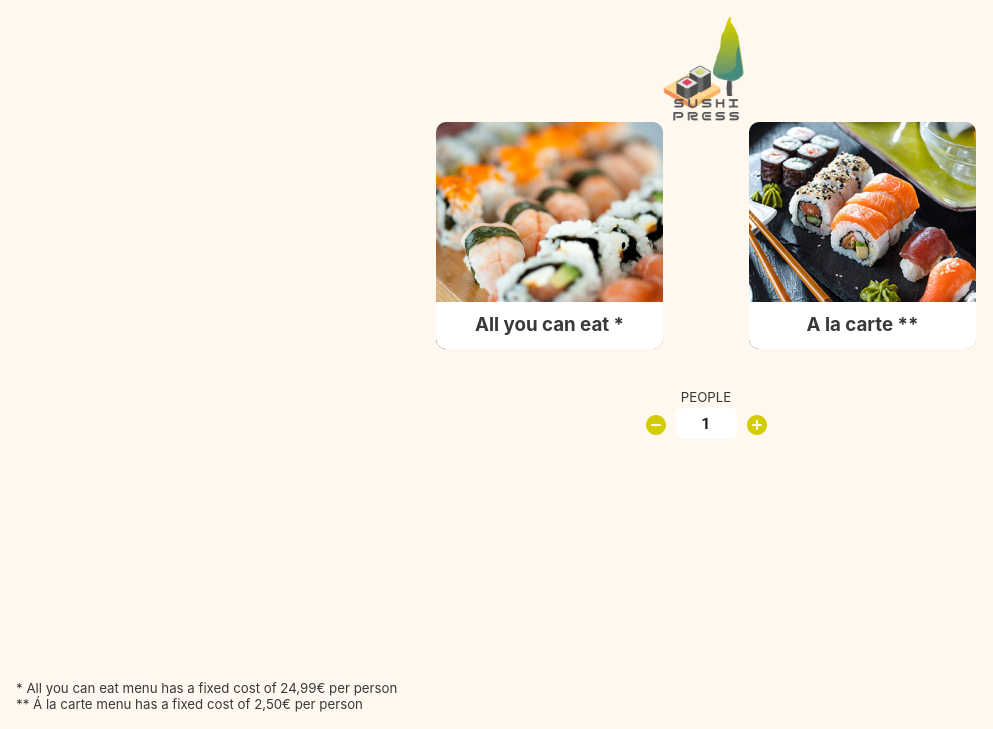
Scenario: can change people › add people
Click the button named "add" at [757, 425], box x1=737 y1=405 x2=777 y2=445
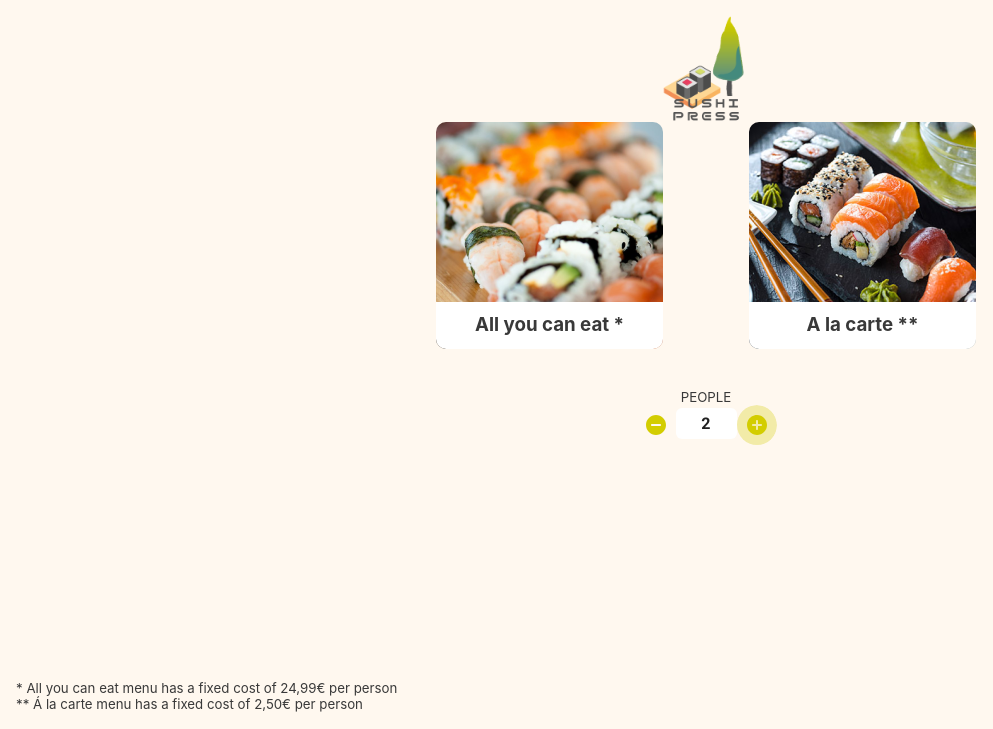
Click the button named "add" at [757, 425], box x1=737 y1=405 x2=777 y2=445
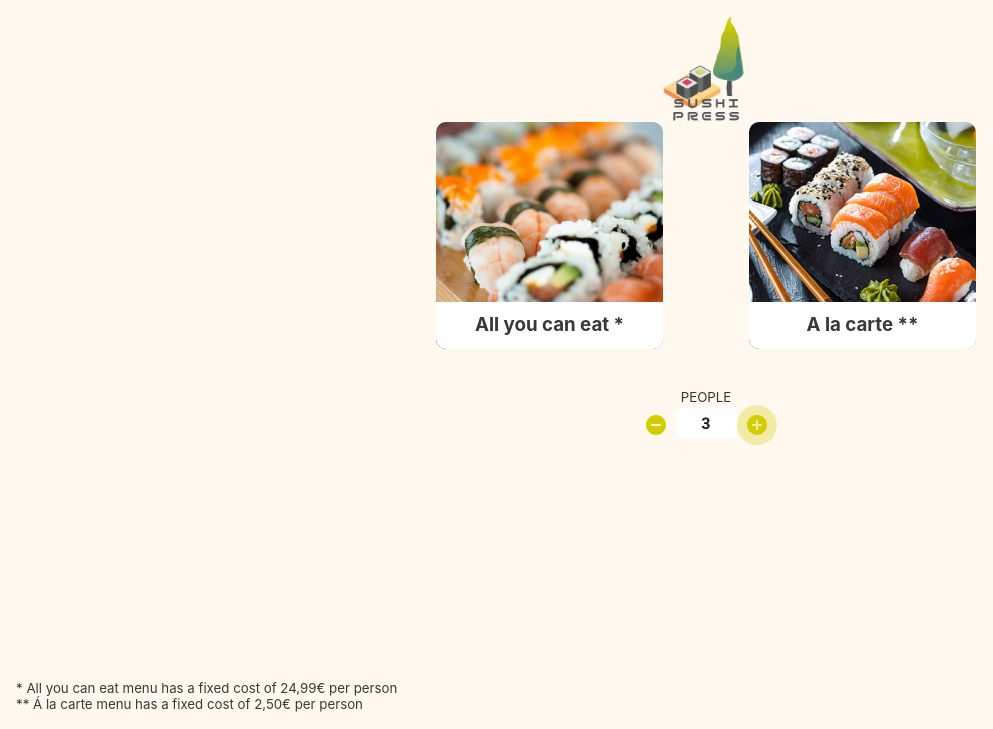
Click the button named "add" at [757, 425], box x1=737 y1=405 x2=777 y2=445
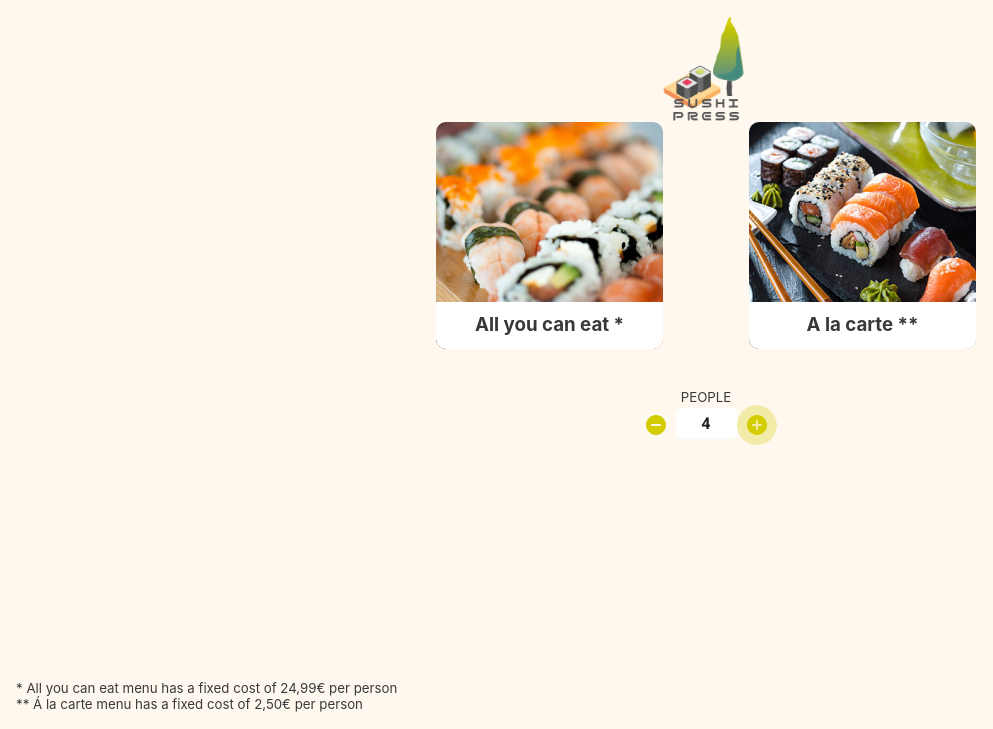
Result: the field with id "counter-input" holds "4" at x1=676 y1=408 x2=737 y2=439
